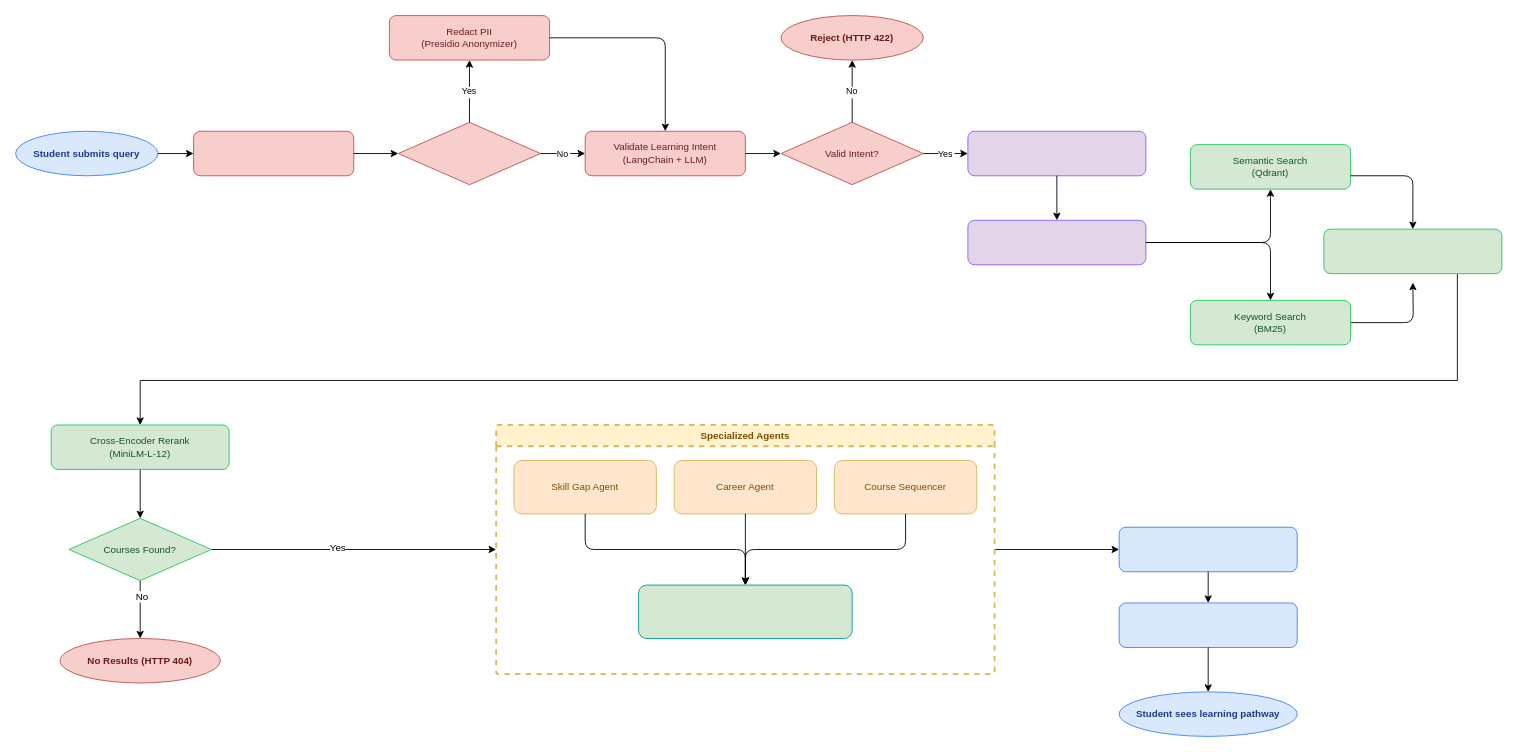
Some shapes in this 1517 by 752 pixel diagram are drawn without their labels. The centre of each missing label's shape, as x and y in pixels:
"Build JSON Response" belongs at [1207,549].
"Build Search Query + Apply Filters" belongs at [1056,242].
"Extract Intent (topic, level, career goal, keywords)" belongs at [1056,153].
"Learning Advisor Agent (summary + path + tips)" belongs at [745,611].
"PII Detected?" belongs at [469,153].
"Render UI (CareerCard + AdvisorCard + CourseList)" belongs at [1207,624].
"RRF Fusion + Metadata Filter + Parent Fetch" belongs at [1412,251].
"Scan for PII (Presidio Analyzer)" belongs at [273,153].
